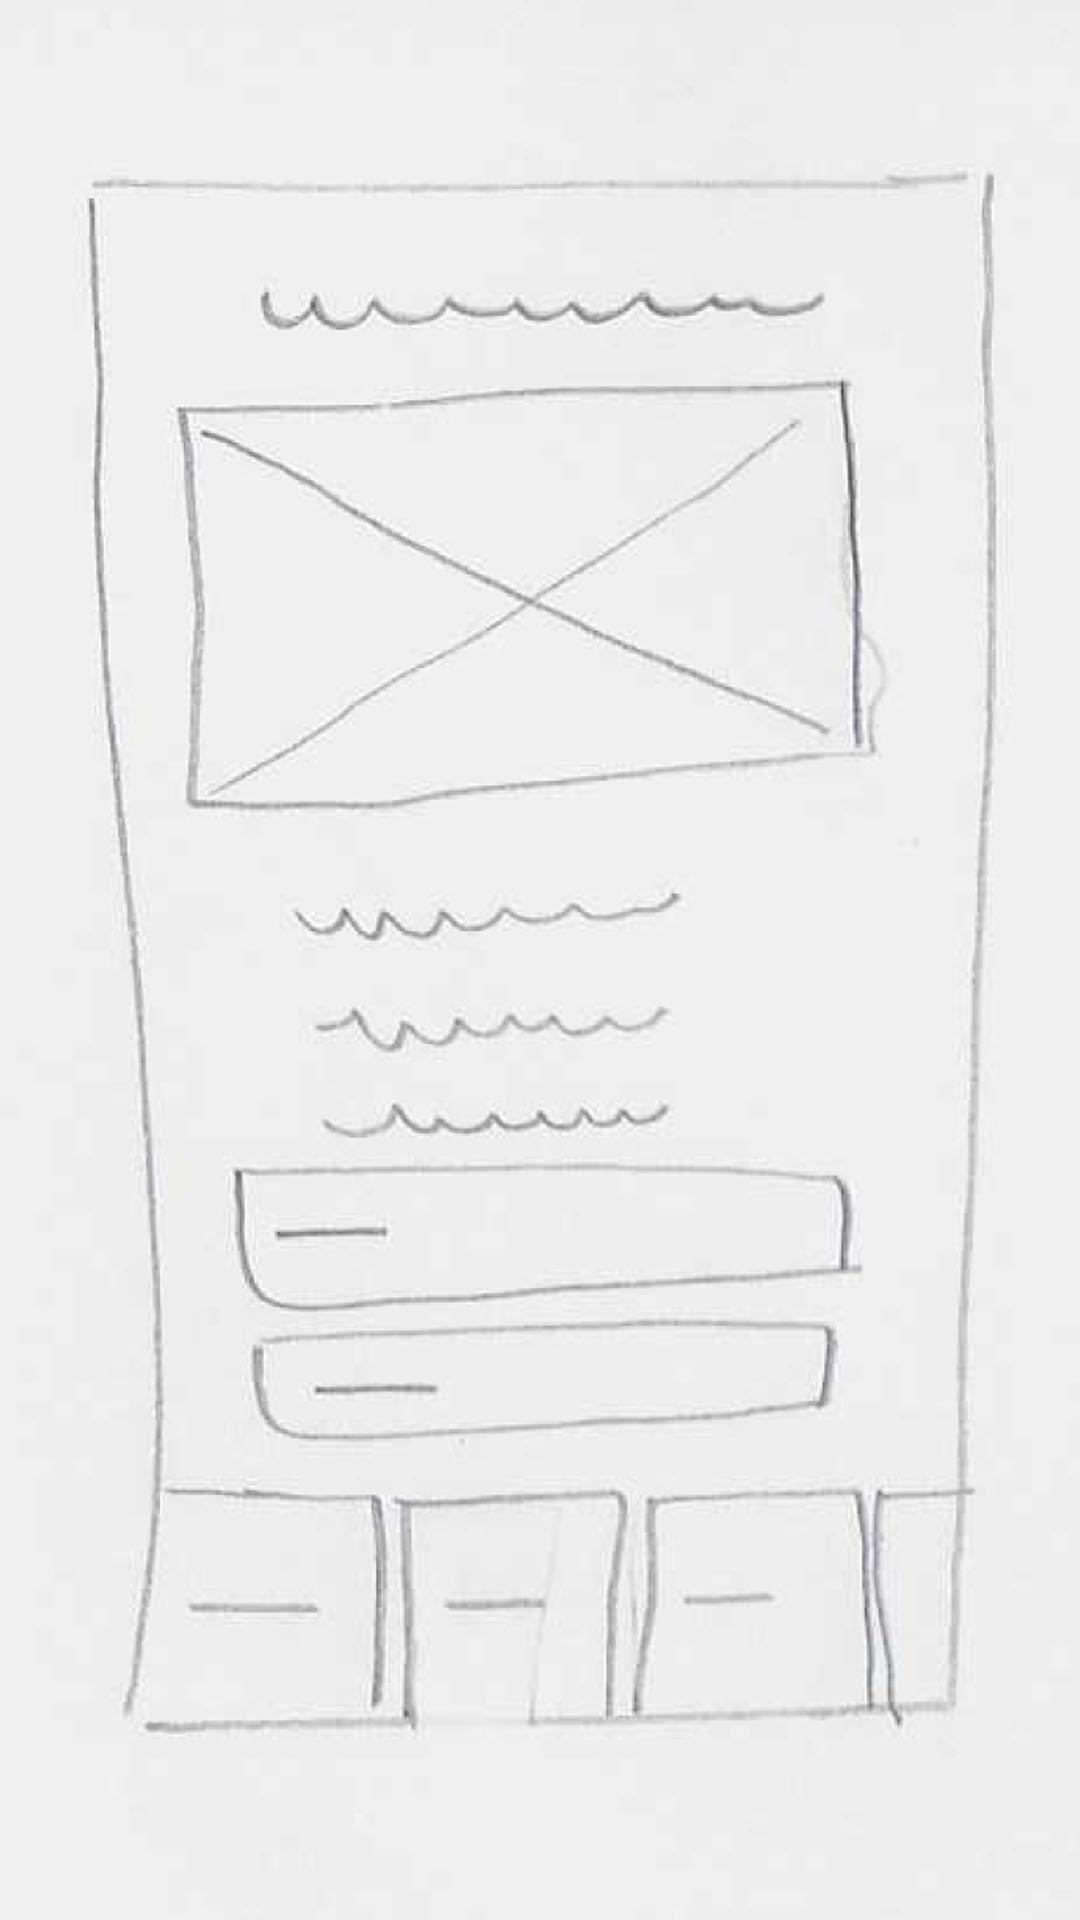Button: (154, 1491, 385, 1721), (401, 1493, 626, 1722), (641, 1494, 874, 1714)
Image: (179, 381, 870, 808)
Label: (291, 885, 679, 1143), (260, 289, 831, 336)
Screen: (82, 178, 994, 1722)
TextBox: (236, 1164, 851, 1308), (255, 1319, 836, 1439)
